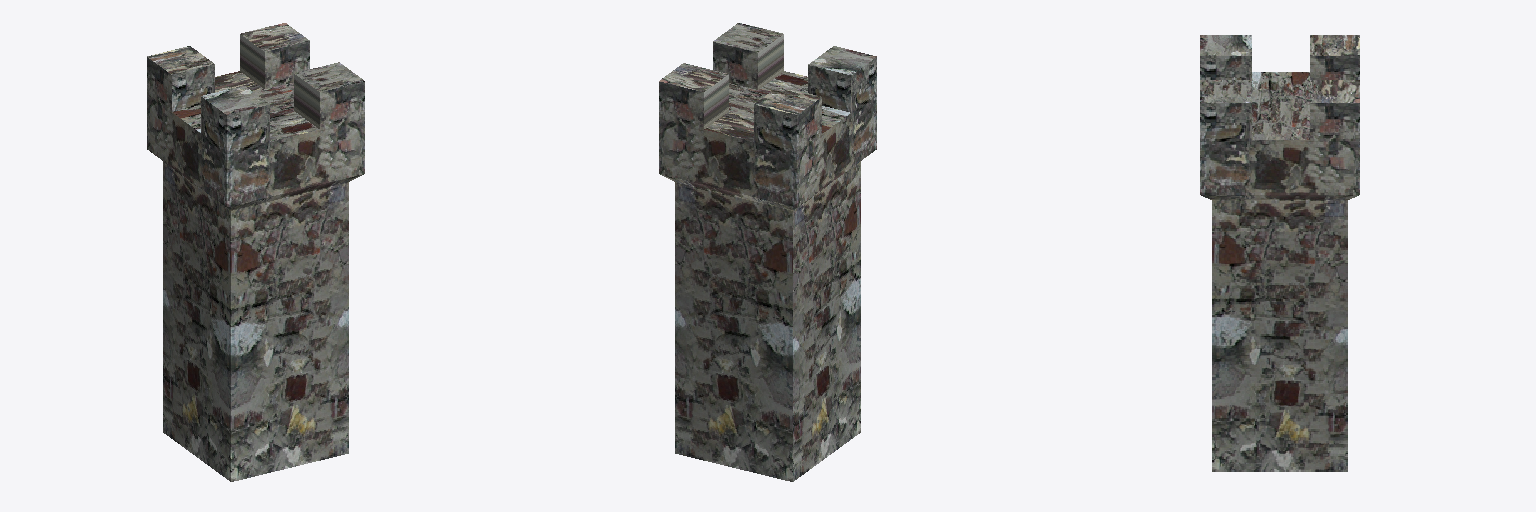
3 renders of one model, left to right at view 1: azimuth 30°, elevation 25°; view 2: azimuth 150°, elevation 25°; view 3: azimuth 270°, elevation 25°, orthographic.
Visible parts, largest first — view 1: polySurface6; view 2: polySurface6; view 3: polySurface6.
Boxes of the visible parts, x1,y1,x2,y2 form: polySurface6: [147, 23, 364, 481]; polySurface6: [659, 23, 876, 481]; polySurface6: [1200, 35, 1359, 471].
Size of the model in its own units: 0.6 by 1.55 by 0.6.
Materials: 1 (1 with a texture image).